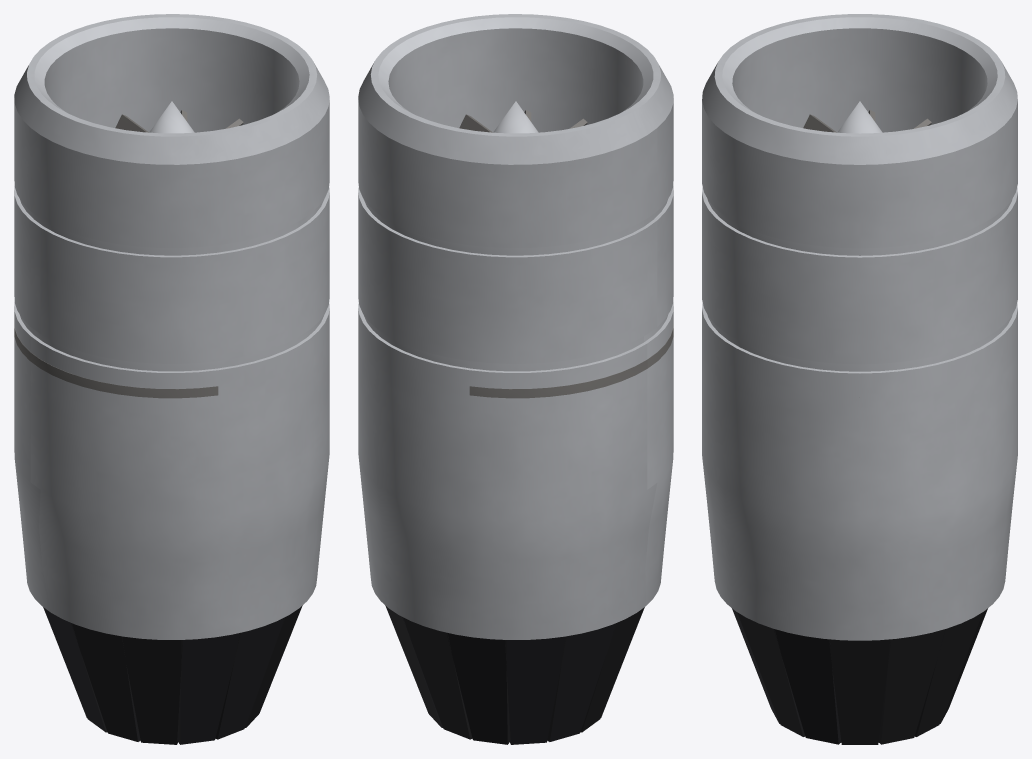
File: ax_aero_29_jetj_turbojet_xs.glb
3 views of the same model, side by side, from view 1: azimuth 30°, elevation 25°; view 2: azimuth 150°, elevation 25°; view 3: azimuth 270°, elevation 25° (orthographic).
Visible parts, largest first — view 1: nacelle, nozzle_petals, rear_frame, spinner; view 2: nacelle, nozzle_petals, rear_frame, spinner; view 3: nacelle, nozzle_petals, spinner.
Boxes of the visible parts, x1,y1,x2,y2 form: nacelle: [14, 14, 329, 639]; nozzle_petals: [43, 605, 302, 744]; rear_frame: [14, 322, 218, 398]; spinner: [149, 101, 194, 133]; nacelle: [358, 14, 673, 639]; nozzle_petals: [385, 605, 644, 744]; rear_frame: [469, 322, 673, 398]; spinner: [493, 101, 538, 133]; nacelle: [702, 14, 1017, 640]; nozzle_petals: [732, 608, 987, 744]; spinner: [837, 101, 882, 133].
Size of the model in its own units: 0.625 by 1.38 by 0.6247.
Materials: 3 (2 with a texture image).
